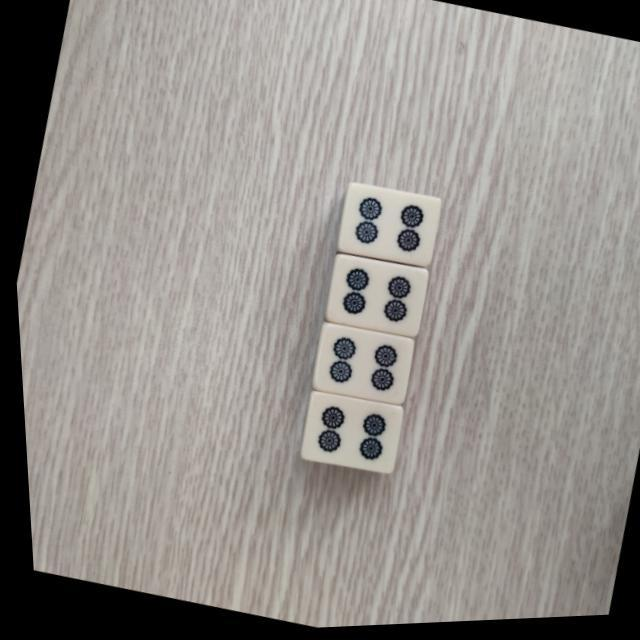sd4: (298, 393, 396, 475), (339, 186, 433, 266), (326, 259, 420, 336), (312, 328, 404, 403)
